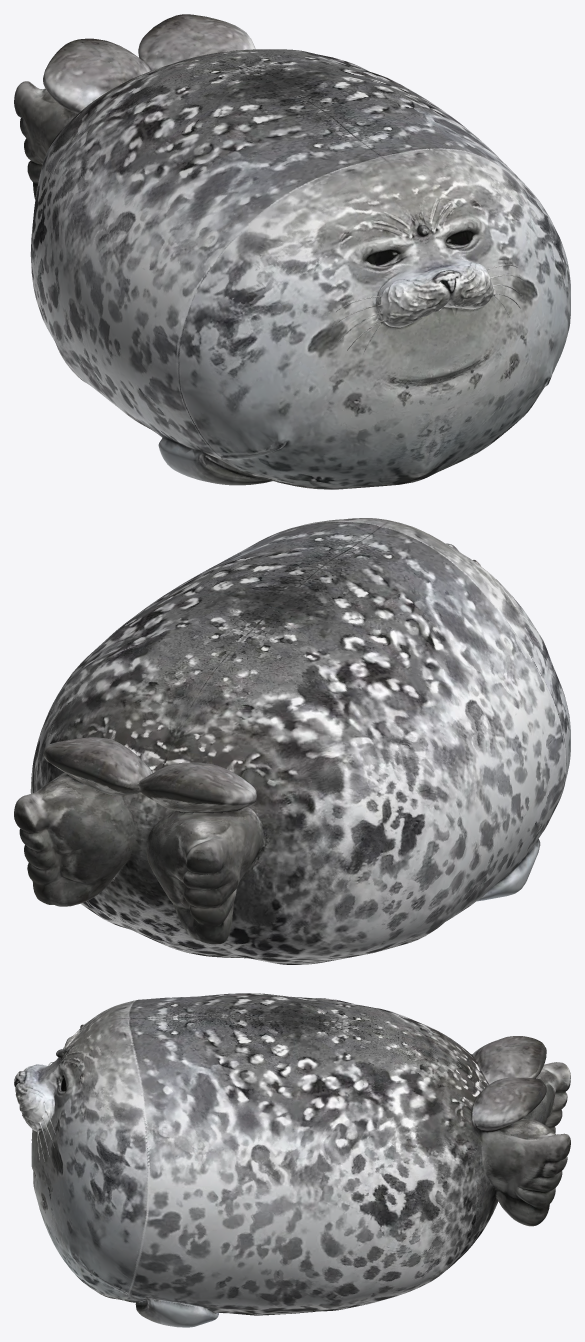
Rendered from harbor-seal-BQ29A7cs.glb.
The picture shows the model from 3 angles, top to bottom: view 1: azimuth 30°, elevation 25°; view 2: azimuth 150°, elevation 25°; view 3: azimuth 270°, elevation 25°; orthographic projection. The views are drawn at different scales.
Bounding box in the file's own units: 1.32 × 0.9446 × 1.9.
Materials: 1 (1 with a texture image).
